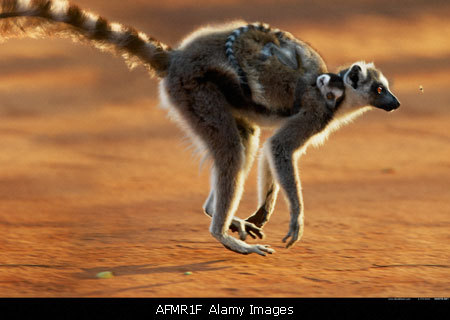cat: (0, 0, 406, 261)
